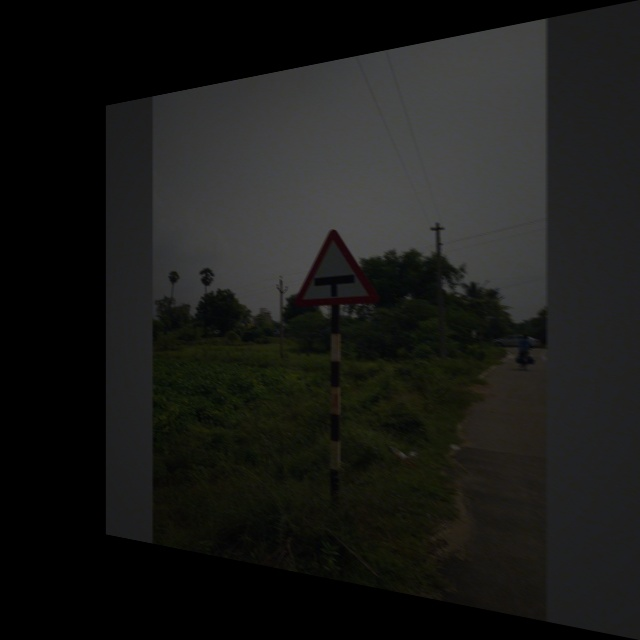T_Intersection: (283, 209, 381, 313)
